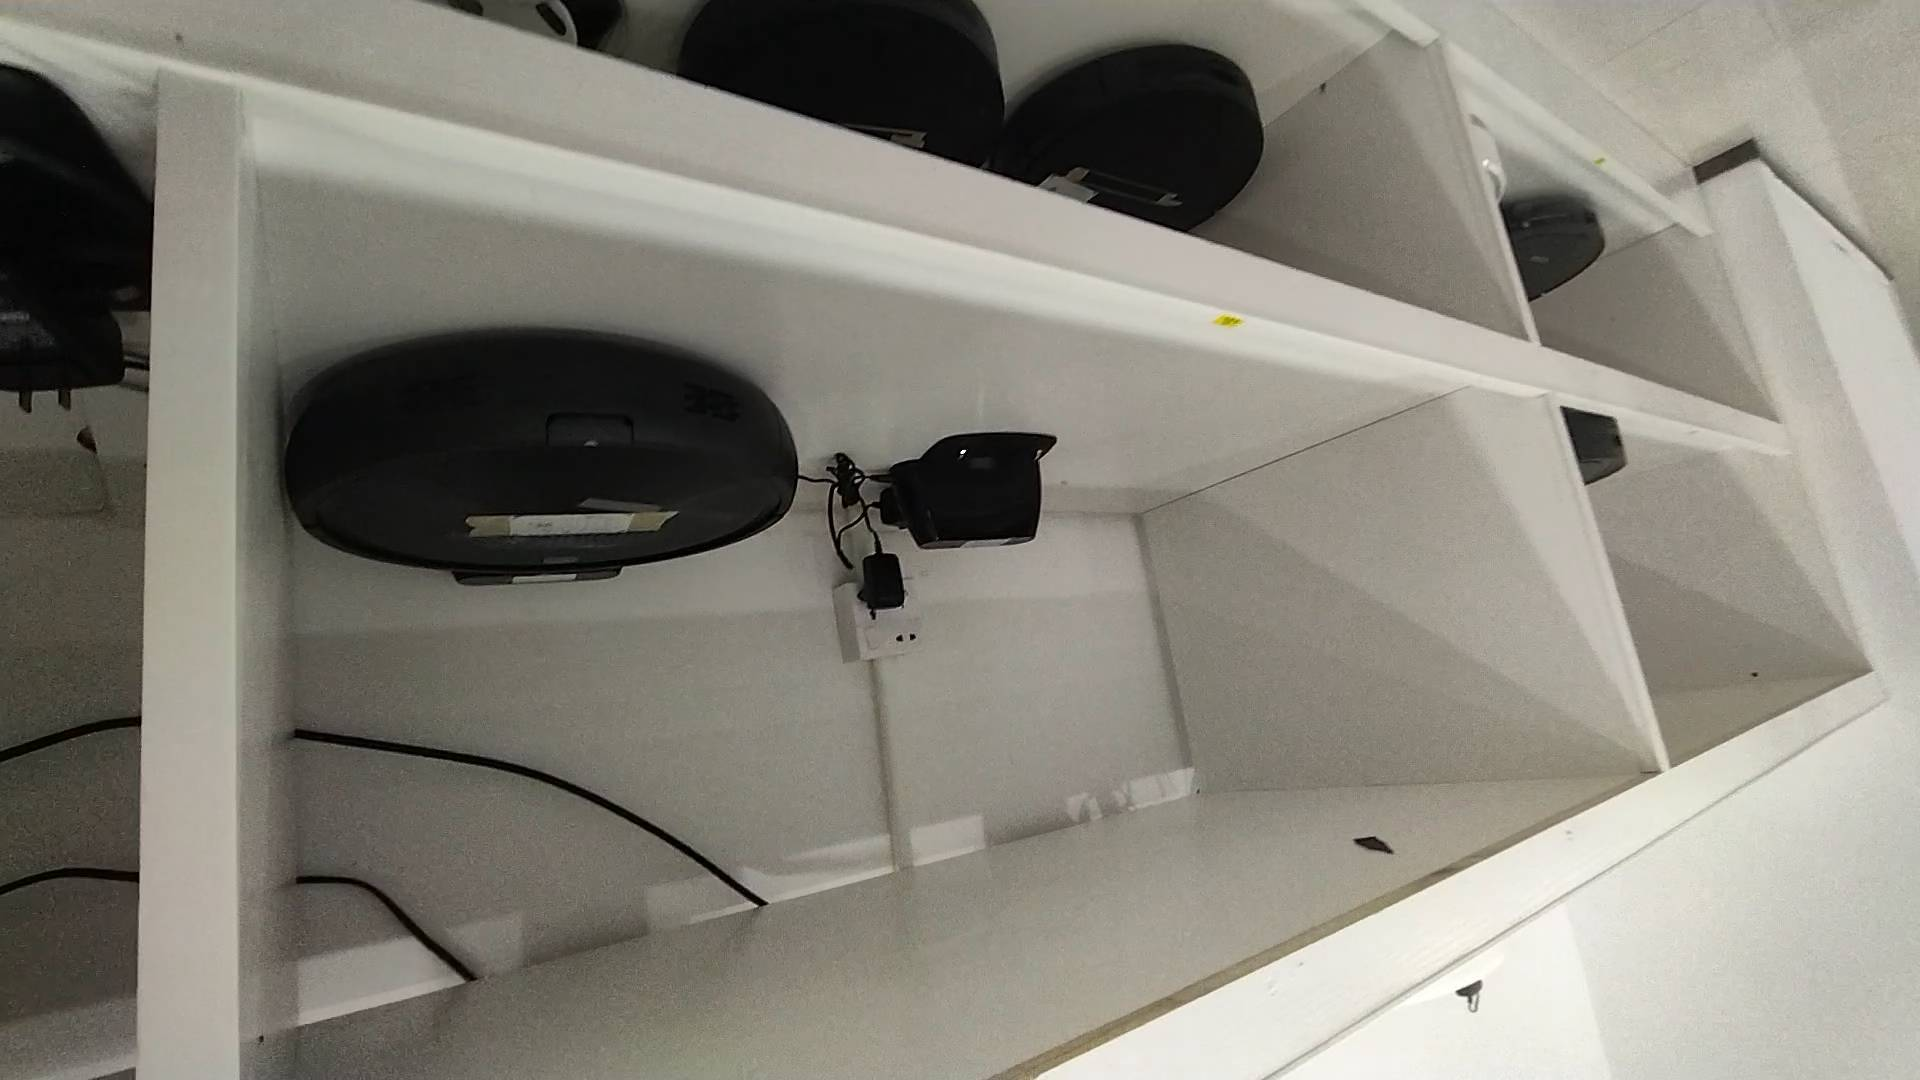recharge seat: (884, 433, 1073, 550)
